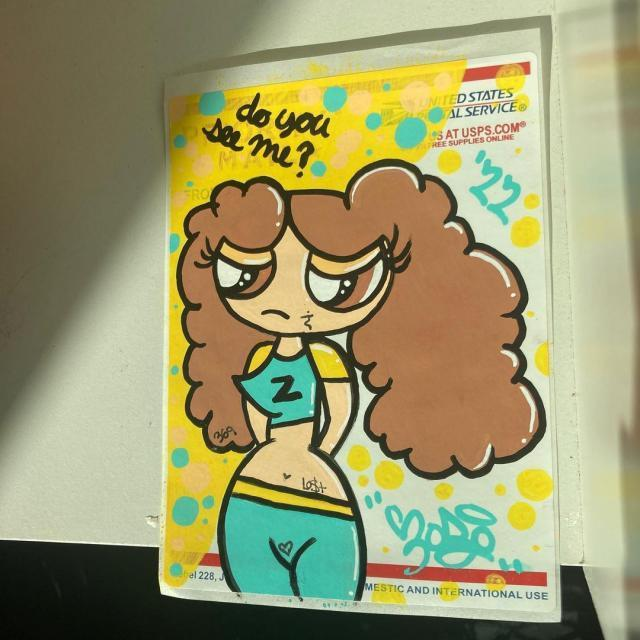-: (144, 160, 556, 616), (370, 489, 534, 581), (195, 84, 336, 184), (208, 418, 242, 448), (298, 476, 336, 498), (274, 538, 296, 560), (297, 312, 316, 332)
